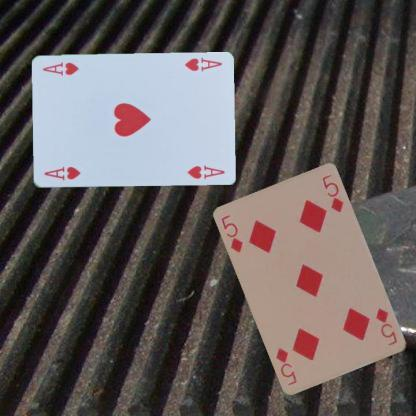5d: (219, 212, 246, 254), (373, 306, 399, 347)
Ah: (182, 55, 223, 73), (42, 164, 82, 182)
